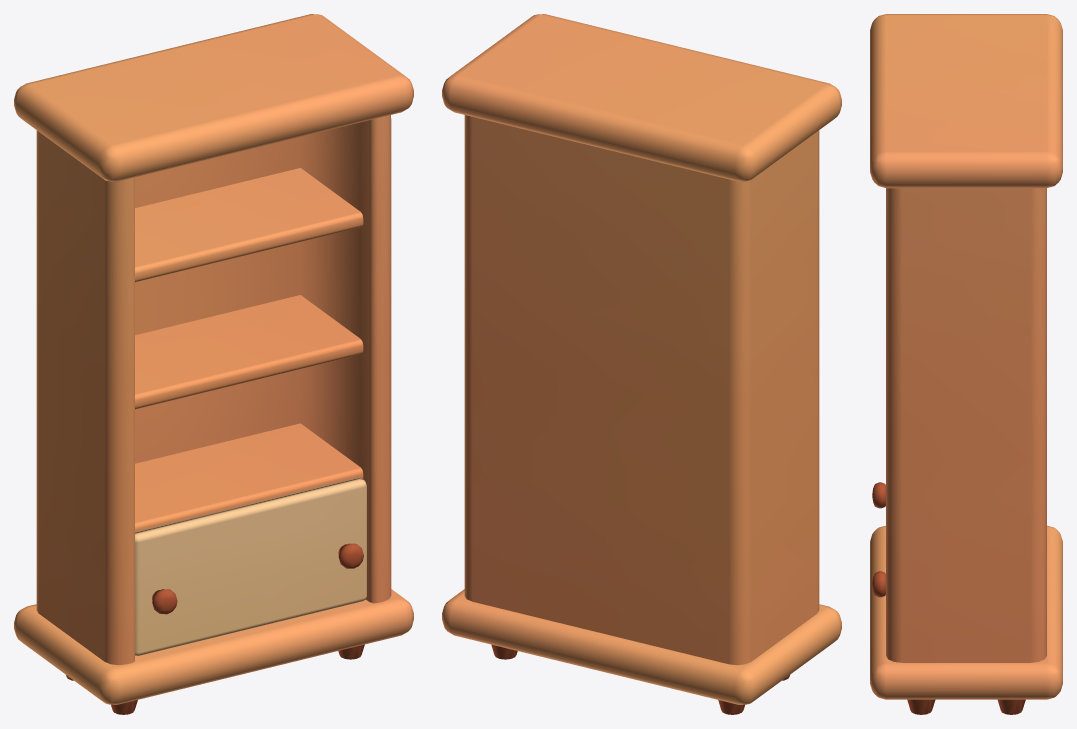
Rendered from Closet_01.glb.
The picture shows the model from 3 angles, left to right: view 1: azimuth 30°, elevation 25°; view 2: azimuth 150°, elevation 25°; view 3: azimuth 270°, elevation 25°; orthographic projection. The views are drawn at different scales.
Parts seen in each view (by area): view 1: Closet_01, Closet_01_Door; view 2: Closet_01; view 3: Closet_01, Closet_01_Door.
Boxes of the visible parts, bbox=[...] form: Closet_01: bbox=[14, 14, 413, 714]; Closet_01_Door: bbox=[135, 477, 366, 655]; Closet_01: bbox=[442, 14, 841, 714]; Closet_01: bbox=[870, 14, 1062, 714]; Closet_01_Door: bbox=[872, 482, 885, 597].
Bounding box in the file's own units: 0.8801 × 1.58 × 0.48.
1 material, 1 textured.
